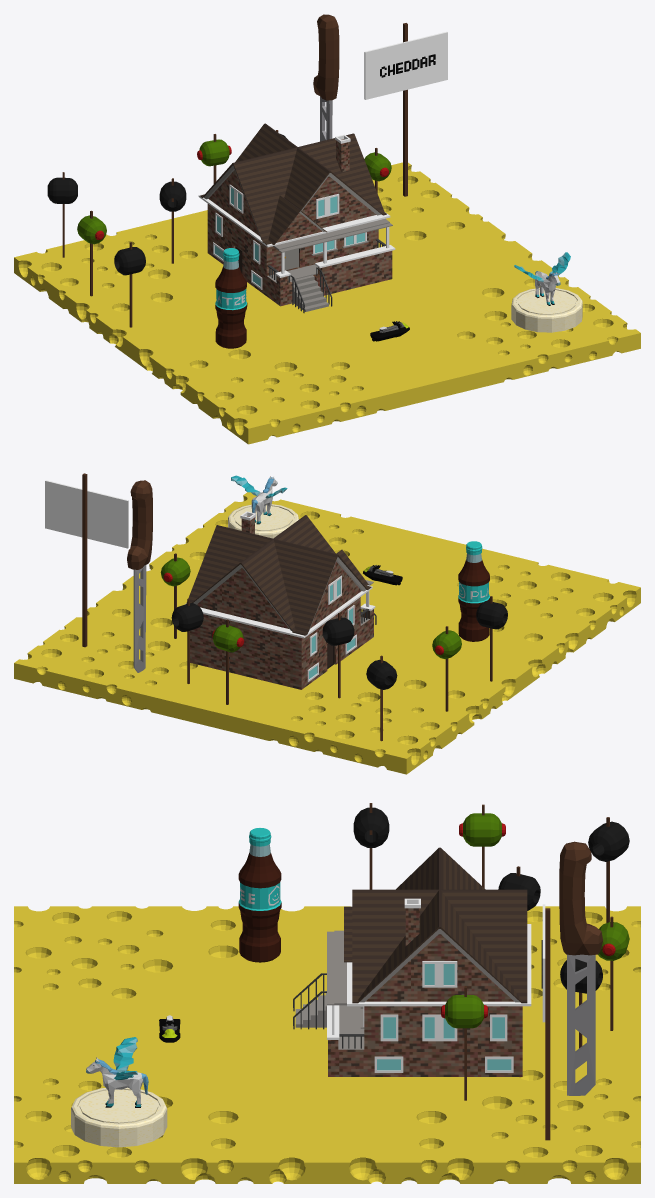
3 views of the same model, one above another, from view 1: azimuth 30°, elevation 25°; view 2: azimuth 150°, elevation 25°; view 3: azimuth 270°, elevation 25° (orthographic). The views are drawn at different scales.
Visible parts, largest first — view 1: Cube.022, Cube.117, Cube.023, OBJRANDOM_PLATZEECOLA, Cylinder.016, Cube.024, Sphere.017, ANIMAL_PEGASO, Sphere.016, Sphere.020, Sphere.018, Sphere.022 (+1 smaller); view 2: Cube.022, Cube.117, Cube.023, Cube.024, OBJRANDOM_PLATZEECOLA, Cylinder.016, Sphere.017, Sphere.020, ANIMAL_PEGASO, Sphere.021, Sphere.016, Sphere.018 (+3 smaller); view 3: Cube.022, Cube.117, Cube.024, Cylinder.016, OBJRANDOM_PLATZEECOLA, ANIMAL_PEGASO, Cube.023, Sphere.019, Sphere.016, Sphere.018, Sphere.017, Sphere.022 (+2 smaller).
Boxes of the visible parts, x1,y1,x2,y2 form: Cube.022: [14, 162, 640, 444]; Cube.117: [198, 123, 395, 313]; Cube.023: [364, 23, 447, 196]; OBJRANDOM_PLATZEECOLA: [215, 248, 247, 348]; Cylinder.016: [511, 288, 582, 332]; Cube.024: [313, 14, 339, 141]; Sphere.017: [114, 242, 145, 327]; ANIMAL_PEGASO: [514, 252, 570, 305]; Sphere.016: [47, 172, 77, 257]; Sphere.020: [159, 178, 186, 263]; Sphere.018: [77, 210, 106, 296]; Sphere.022: [197, 134, 231, 183]; Cube.022: [14, 492, 640, 774]; Cube.117: [185, 511, 376, 689]; Cube.023: [45, 473, 128, 647]; Cube.024: [127, 480, 152, 672]; OBJRANDOM_PLATZEECOLA: [458, 541, 489, 641]; Cylinder.016: [228, 504, 298, 538]; Sphere.017: [476, 596, 507, 681]; Sphere.020: [322, 612, 354, 698]; ANIMAL_PEGASO: [231, 475, 287, 524]; Sphere.021: [171, 598, 203, 683]; Sphere.016: [366, 655, 397, 741]; Sphere.018: [432, 626, 461, 711]; Cube.022: [14, 906, 640, 1183]; Cube.117: [293, 847, 531, 1076]; Cube.024: [559, 841, 602, 1095]; Cylinder.016: [71, 1087, 167, 1147]; OBJRANDOM_PLATZEECOLA: [238, 828, 281, 962]; ANIMAL_PEGASO: [86, 1037, 148, 1107]; Cube.023: [541, 904, 550, 1140]; Sphere.019: [441, 986, 487, 1100]; Sphere.016: [588, 817, 629, 922]; Sphere.018: [459, 804, 505, 887]; Sphere.017: [353, 803, 389, 889]; Sphere.022: [598, 916, 629, 1030].
Size of the model in its own units: 3917 by 2007 by 4000.
Materials: 38 (4 with a texture image).
